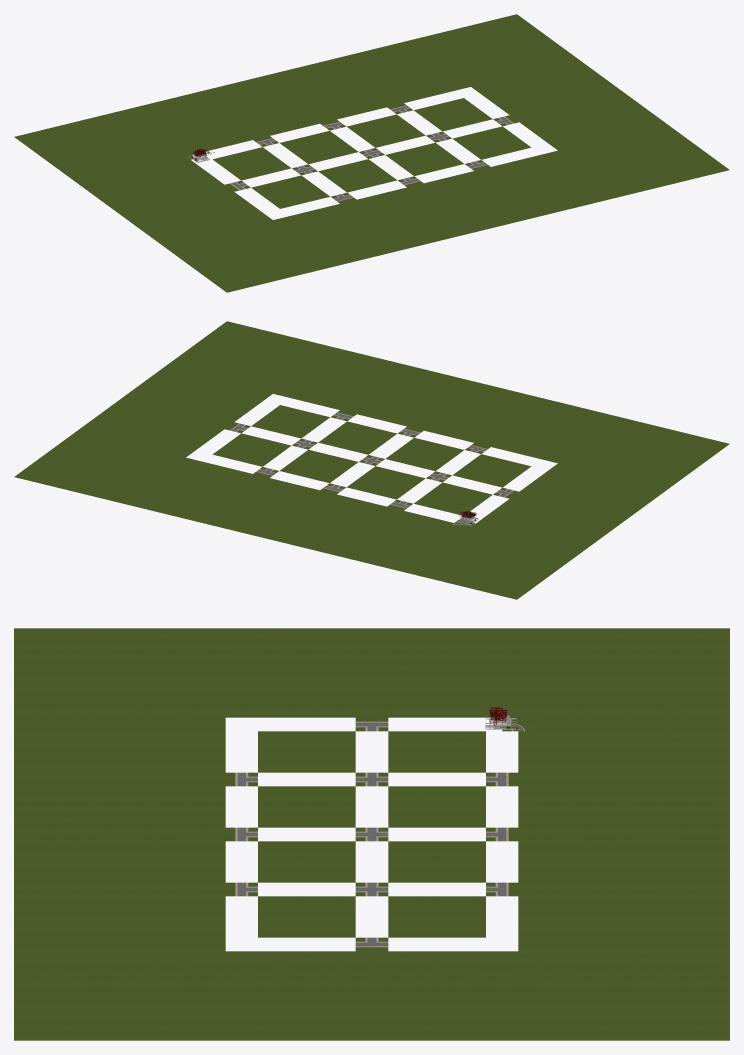
File: city2.glb
The picture shows the model from 3 angles, top to bottom: view 1: azimuth 30°, elevation 25°; view 2: azimuth 150°, elevation 25°; view 3: azimuth 270°, elevation 25°; orthographic projection. The views are drawn at different scales.
Visible parts, largest first — view 1: p1830, p1829, p1831, p1832, p1827, p1822, p1823, p1826, p1821, p1828, p1824, p1825; view 2: p1830, p1829, p1831, p1832, p1823, p1826, p1827, p1822, p1824, p1825, p1828, p1821; view 3: p1830, p1829, p1832, p1831, p1821, p1822, p1823, p1824, p1825, p1826, p1827, p1828.
Boxes of the visible parts, box(x1,y1,x2,y2) form: p1830: box(164, 124, 729, 292); p1829: box(14, 14, 579, 182); p1831: box(77, 156, 272, 246); p1832: box(471, 60, 666, 150); p1827: box(385, 142, 463, 176); p1822: box(280, 131, 358, 164); p1823: box(347, 114, 425, 147); p1826: box(318, 159, 396, 192); p1821: box(213, 147, 290, 180); p1828: box(453, 126, 530, 159); p1824: box(414, 98, 492, 131); p1825: box(251, 175, 329, 208); p1830: box(164, 321, 729, 489); p1829: box(14, 431, 579, 599); p1831: box(471, 463, 666, 553); p1832: box(77, 367, 272, 457); p1823: box(280, 449, 358, 483); p1826: box(385, 437, 463, 471); p1827: box(318, 421, 396, 454); p1822: box(347, 466, 425, 499); p1824: box(213, 433, 290, 466); p1825: box(453, 454, 530, 487); p1828: box(251, 405, 329, 438); p1821: box(414, 482, 492, 515); p1830: box(14, 628, 225, 1040); p1829: box(518, 628, 729, 1040); p1832: box(225, 951, 518, 1040); p1831: box(225, 628, 518, 717); p1821: box(388, 731, 485, 772); p1822: box(388, 786, 485, 827); p1823: box(388, 841, 485, 882); p1824: box(388, 896, 485, 937); p1825: box(258, 731, 355, 772); p1826: box(258, 786, 355, 827); p1827: box(258, 841, 355, 882); p1828: box(258, 896, 355, 937).
Size of the model in its own units: 1200 by 23.05 by 880.
Materials: 95 (91 with a texture image).
